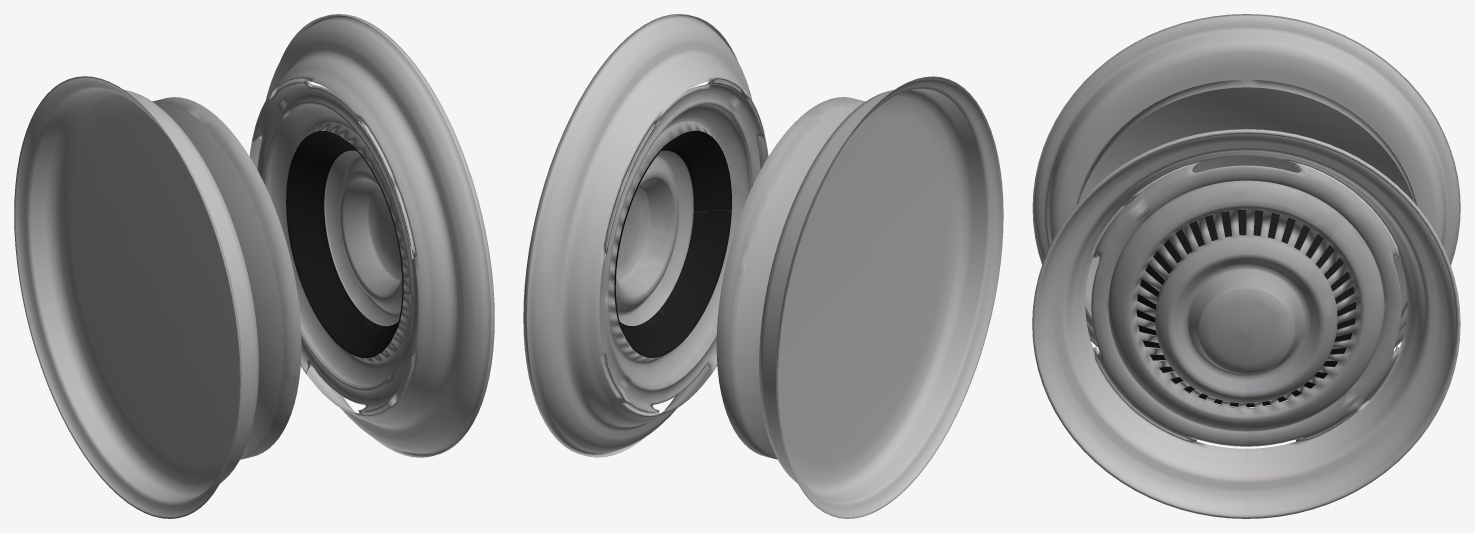
The picture shows the model from 3 angles, left to right: view 1: azimuth 30°, elevation 25°; view 2: azimuth 150°, elevation 25°; view 3: azimuth 270°, elevation 25°; orthographic projection. The views are drawn at different scales.
Visible parts, largest first — view 1: Glint; view 2: Glint; view 3: Glint.
Boxes of the visible parts, x1,y1,x2,y2 form: Glint: [14, 14, 494, 518]; Glint: [523, 14, 1003, 518]; Glint: [1032, 14, 1460, 518].
Size of the model in its own units: 0.8306 by 1.19 by 1.19.
1 material, 1 textured.
